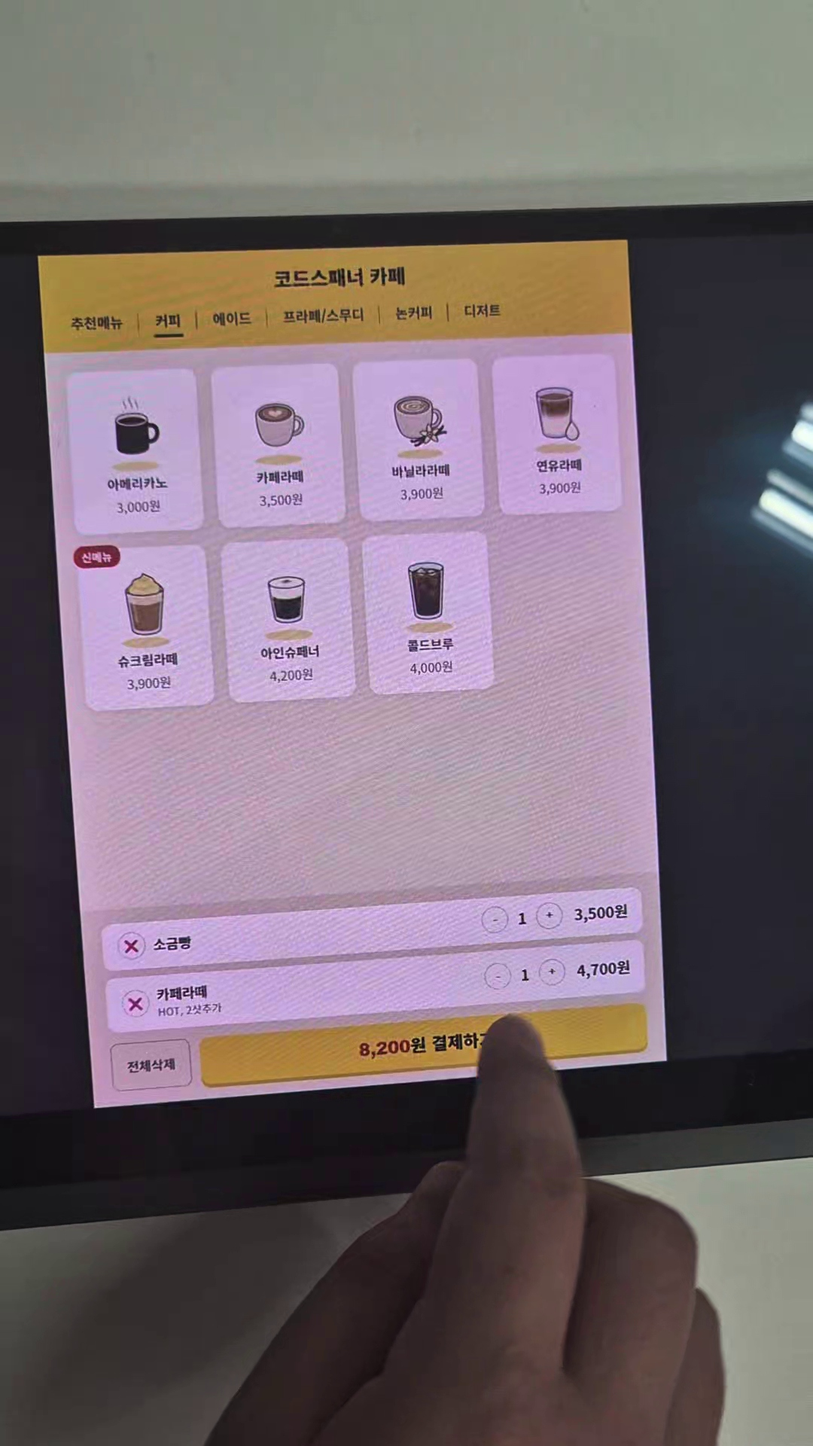action_button: (203, 1002, 648, 1085), (112, 1040, 192, 1088)
cart_item: (108, 939, 647, 1035), (104, 888, 646, 969)
category_tab: (282, 307, 365, 324), (70, 316, 123, 332), (212, 312, 253, 326), (395, 305, 433, 320), (463, 302, 501, 316), (154, 314, 182, 329)
menu_back: (74, 542, 216, 710), (209, 361, 349, 528), (66, 369, 204, 536), (220, 536, 355, 702), (361, 531, 493, 694), (356, 357, 486, 522), (493, 354, 620, 516)
menu_name: (117, 652, 180, 669), (259, 644, 321, 660), (104, 475, 167, 490), (390, 463, 451, 477), (406, 637, 456, 652), (536, 458, 583, 472), (255, 471, 305, 483)
menu_price: (115, 500, 162, 515), (408, 661, 455, 675), (268, 668, 312, 682), (400, 487, 445, 500), (126, 676, 171, 689), (257, 494, 303, 506), (538, 483, 582, 495)
